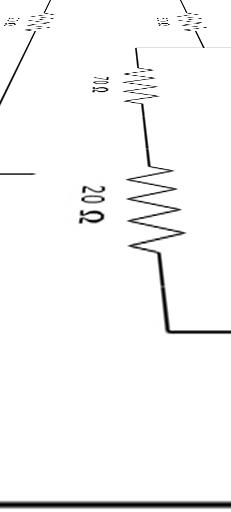resistor: (124, 144, 193, 277), (117, 48, 167, 113), (20, 8, 63, 40), (173, 4, 210, 40)
